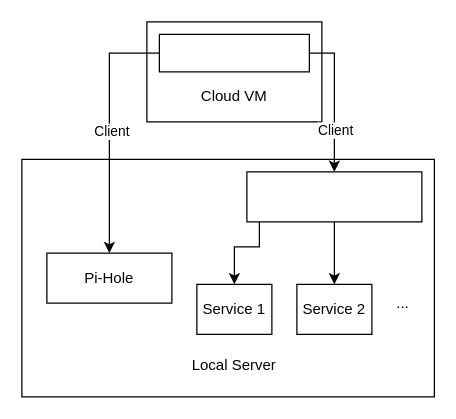
Image size: 456x419. Some labels were removed from this diagram. The box of each missing label's shape, as (x1, y1, x2, y2) in pixels:
NeBird Server: (158, 33, 309, 72)
Traefik Reverse Proxy: (246, 171, 422, 222)
